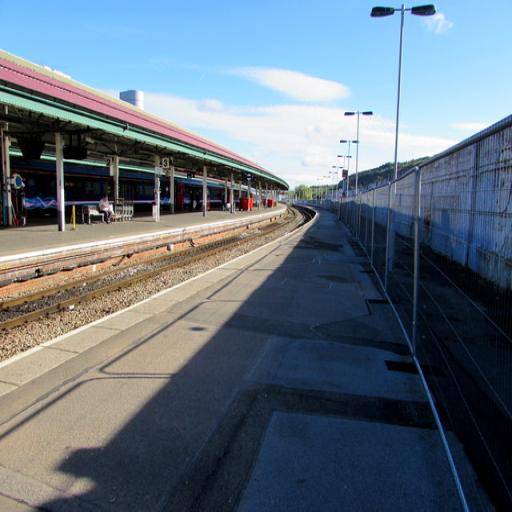platform_edge: (0, 229, 234, 276)
